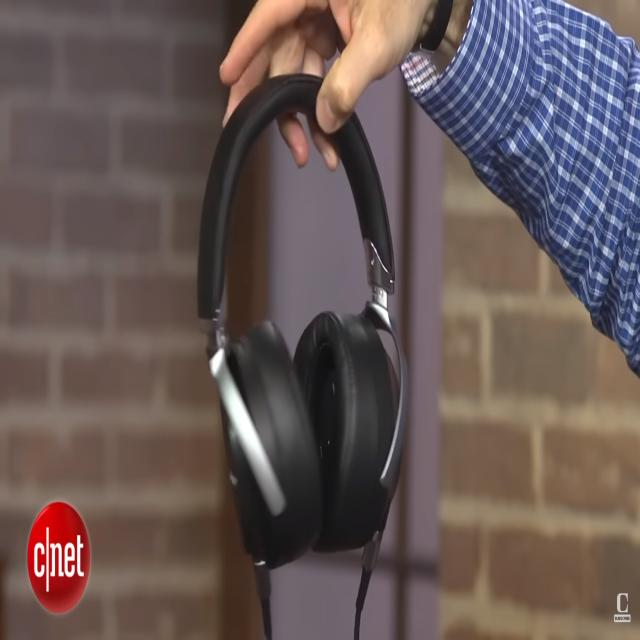Headphone: (197, 72, 411, 571)
